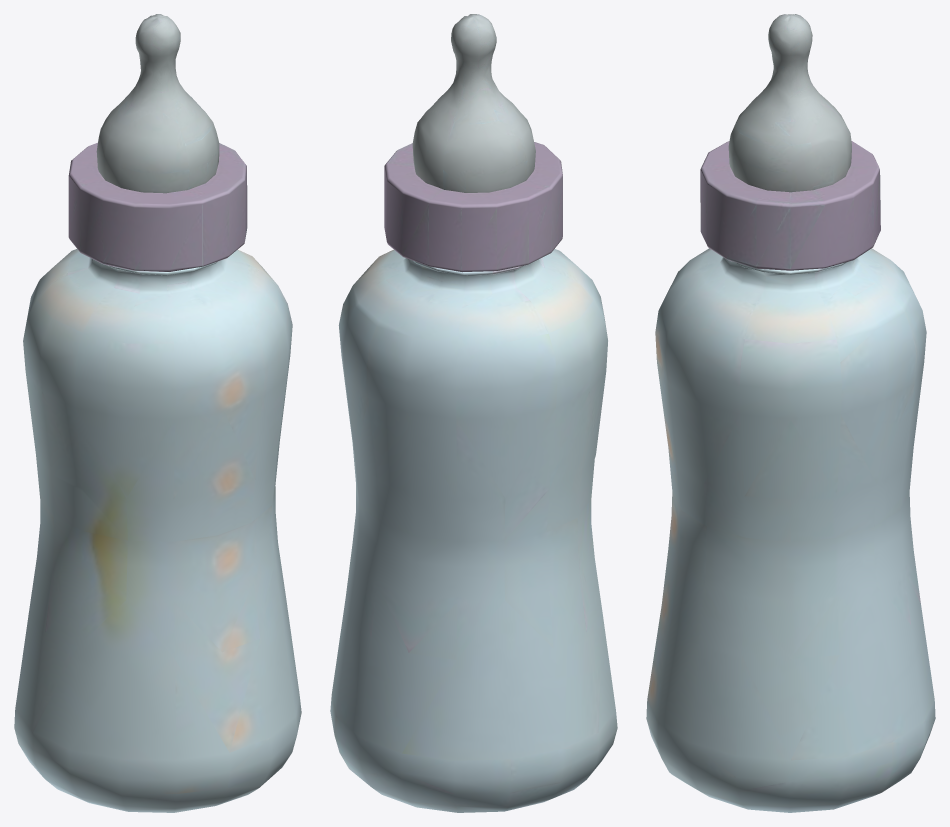
The model's file is babyBottle.glb.
The picture shows the model from 3 angles, left to right: view 1: azimuth 30°, elevation 25°; view 2: azimuth 150°, elevation 25°; view 3: azimuth 270°, elevation 25°; orthographic projection.
Visible parts, largest first — view 1: babyBottle; view 2: babyBottle; view 3: babyBottle.
Boxes of the visible parts, x1,y1,x2,y2 form: babyBottle: [14, 14, 301, 812]; babyBottle: [330, 14, 617, 812]; babyBottle: [646, 14, 935, 812].
Size of the model in its own units: 0.0872 by 0.25 by 0.0872.
1 material, 1 textured.
